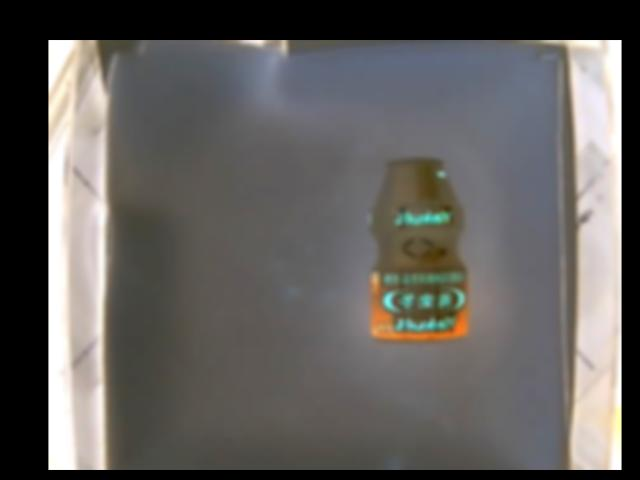Bottle: (371, 156, 466, 341)
